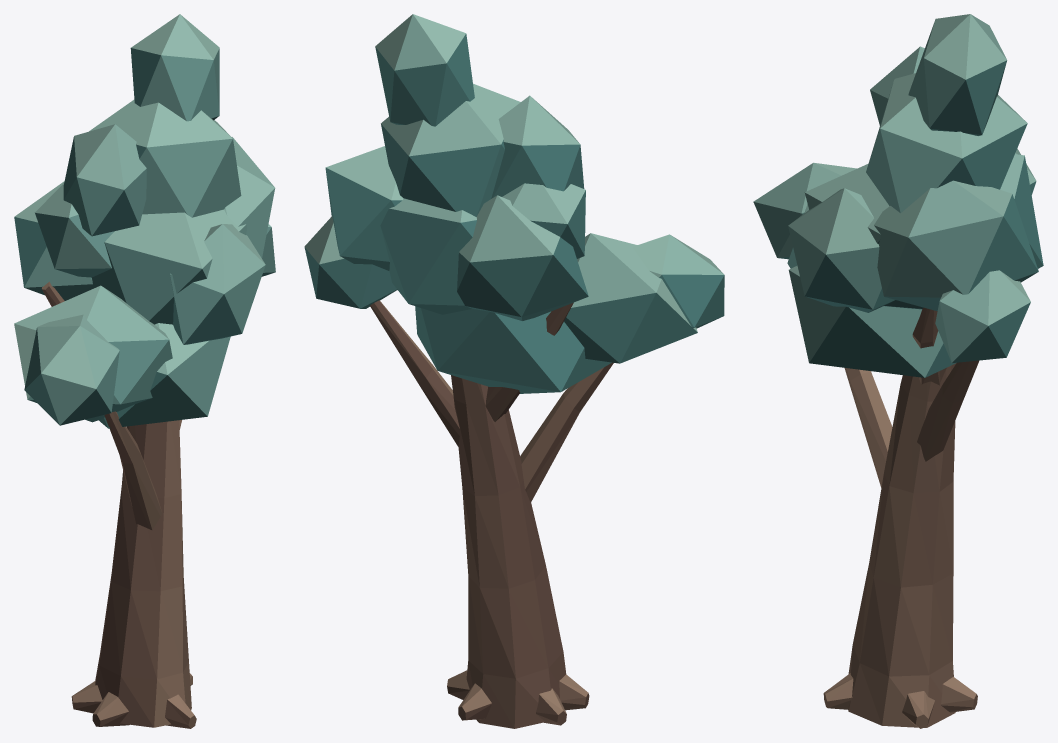
The picture shows the model from 3 angles, left to right: view 1: azimuth 30°, elevation 25°; view 2: azimuth 150°, elevation 25°; view 3: azimuth 270°, elevation 25°; orthographic projection. The views are drawn at different scales.
Parts seen in each view (by area): view 1: WK_RegularTree_CoolEvergreen_LOD0_High; view 2: WK_RegularTree_CoolEvergreen_LOD0_High; view 3: WK_RegularTree_CoolEvergreen_LOD0_High.
Boxes of the visible parts, x1,y1,x2,y2 form: WK_RegularTree_CoolEvergreen_LOD0_High: (14, 14, 275, 728); WK_RegularTree_CoolEvergreen_LOD0_High: (304, 14, 724, 728); WK_RegularTree_CoolEvergreen_LOD0_High: (753, 14, 1043, 728).
Bounding box in the file's own units: 3.62 × 7.36 × 2.65.
